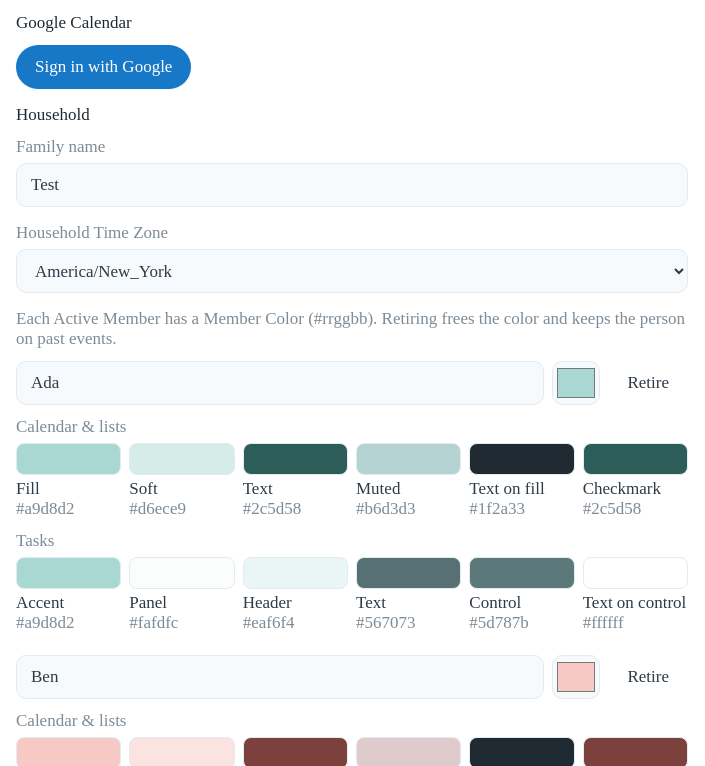
Settings Member Color and retirement › Retire is the only removal and retired rows stay visible
expect the 1st field showing "Ada" is shown: met, box top-left (16, 361), bottom-right (544, 405)
Click the 1st button "Retire" at (648, 383), box top-left (608, 361), bottom-right (688, 405)
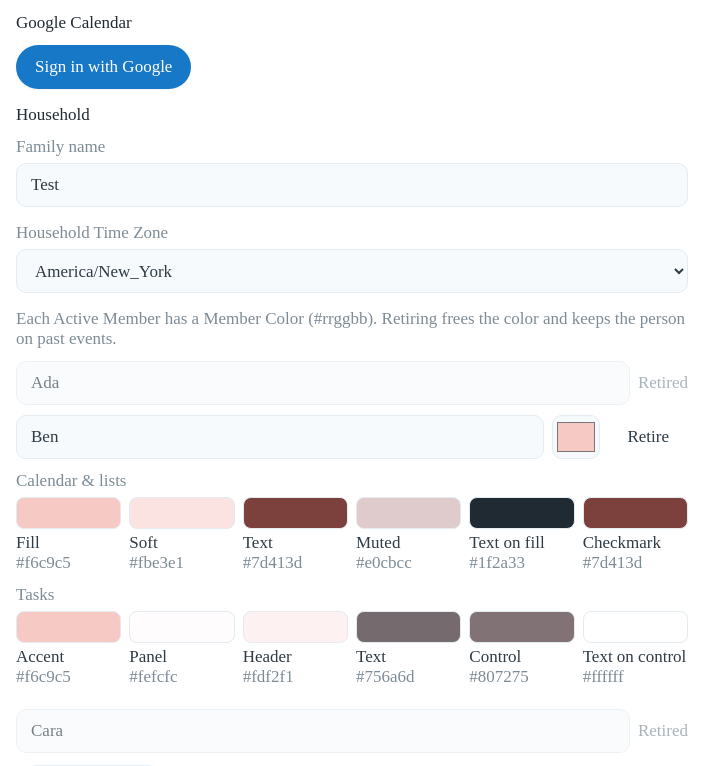
expect the 1st field showing "Ada" is disabled: met, box top-left (16, 361), bottom-right (630, 405)
expect the text "Retired" is shown 2 times: met, box top-left (638, 373), bottom-right (688, 393); top-left (638, 721), bottom-right (688, 741)
